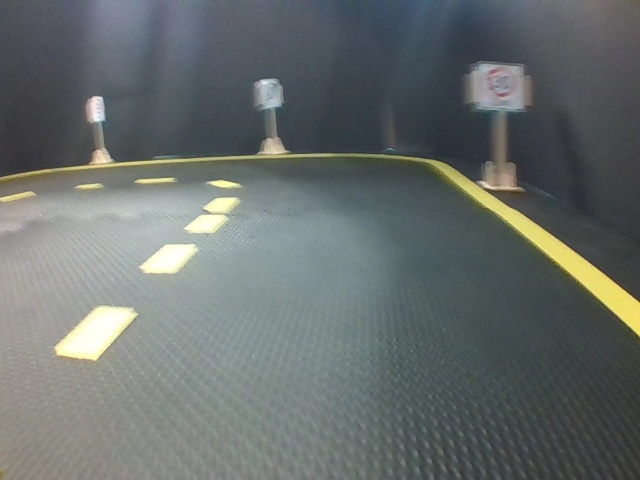30: (479, 65, 524, 110), (91, 97, 106, 122)
no30: (261, 79, 281, 110)
